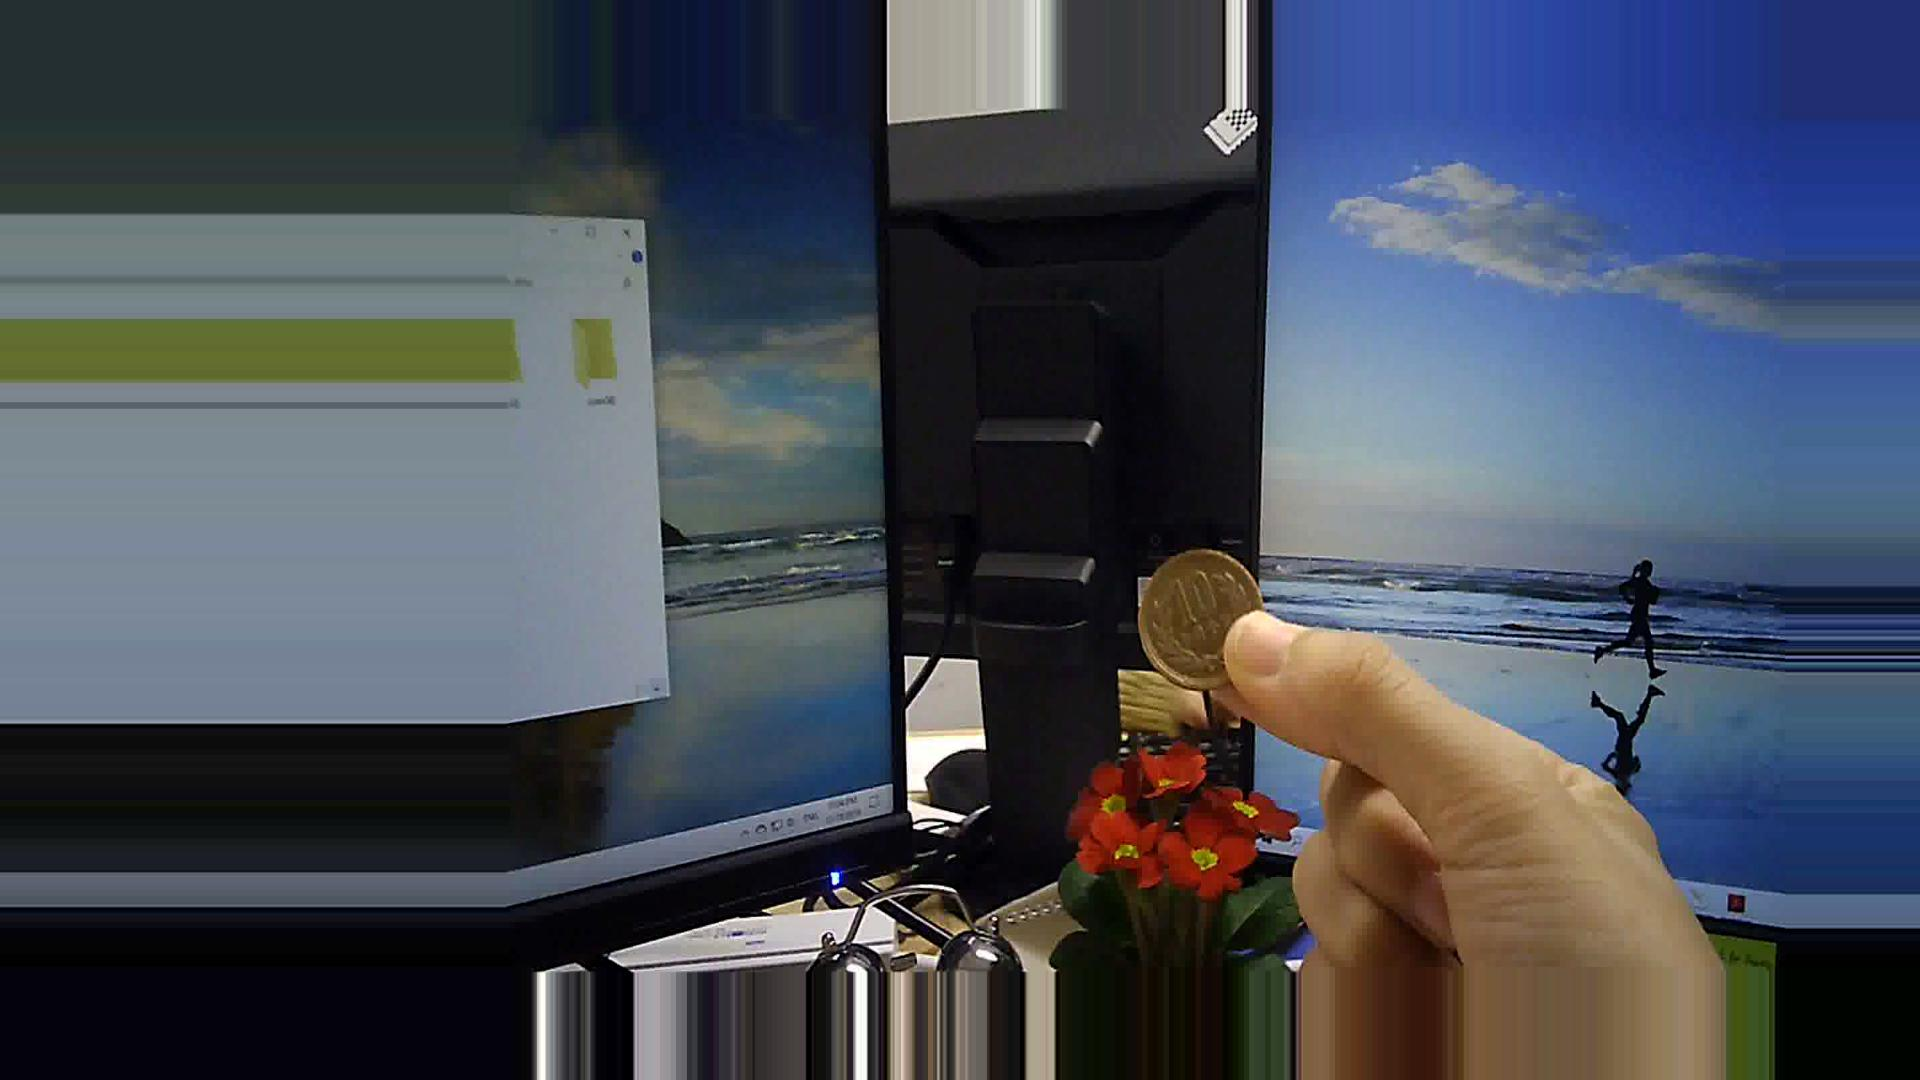10 Yen: (1135, 549, 1278, 692)
